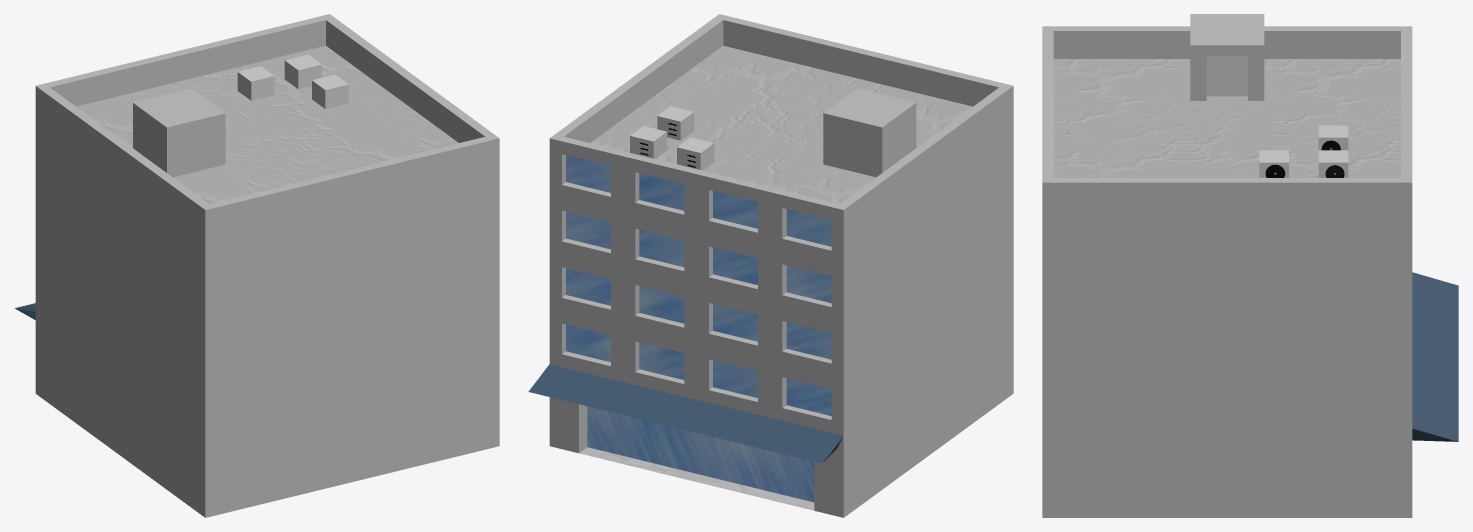
The model's file is Predio1.fbx.
3 renders of one model, left to right at view 1: azimuth 30°, elevation 25°; view 2: azimuth 150°, elevation 25°; view 3: azimuth 270°, elevation 25°, orthographic. The views are drawn at different scales.
Visible parts, largest first — view 1: Predio1; view 2: Predio1; view 3: Predio1.
Boxes of the visible parts, <box> form: Predio1: <box>15,14,499,517</box>; Predio1: <box>528,14,1013,517</box>; Predio1: <box>1042,14,1458,517</box>.
Bounding box in the file's own units: 1350 × 1200 × 1300.
Materials: 1 (1 with a texture image).
